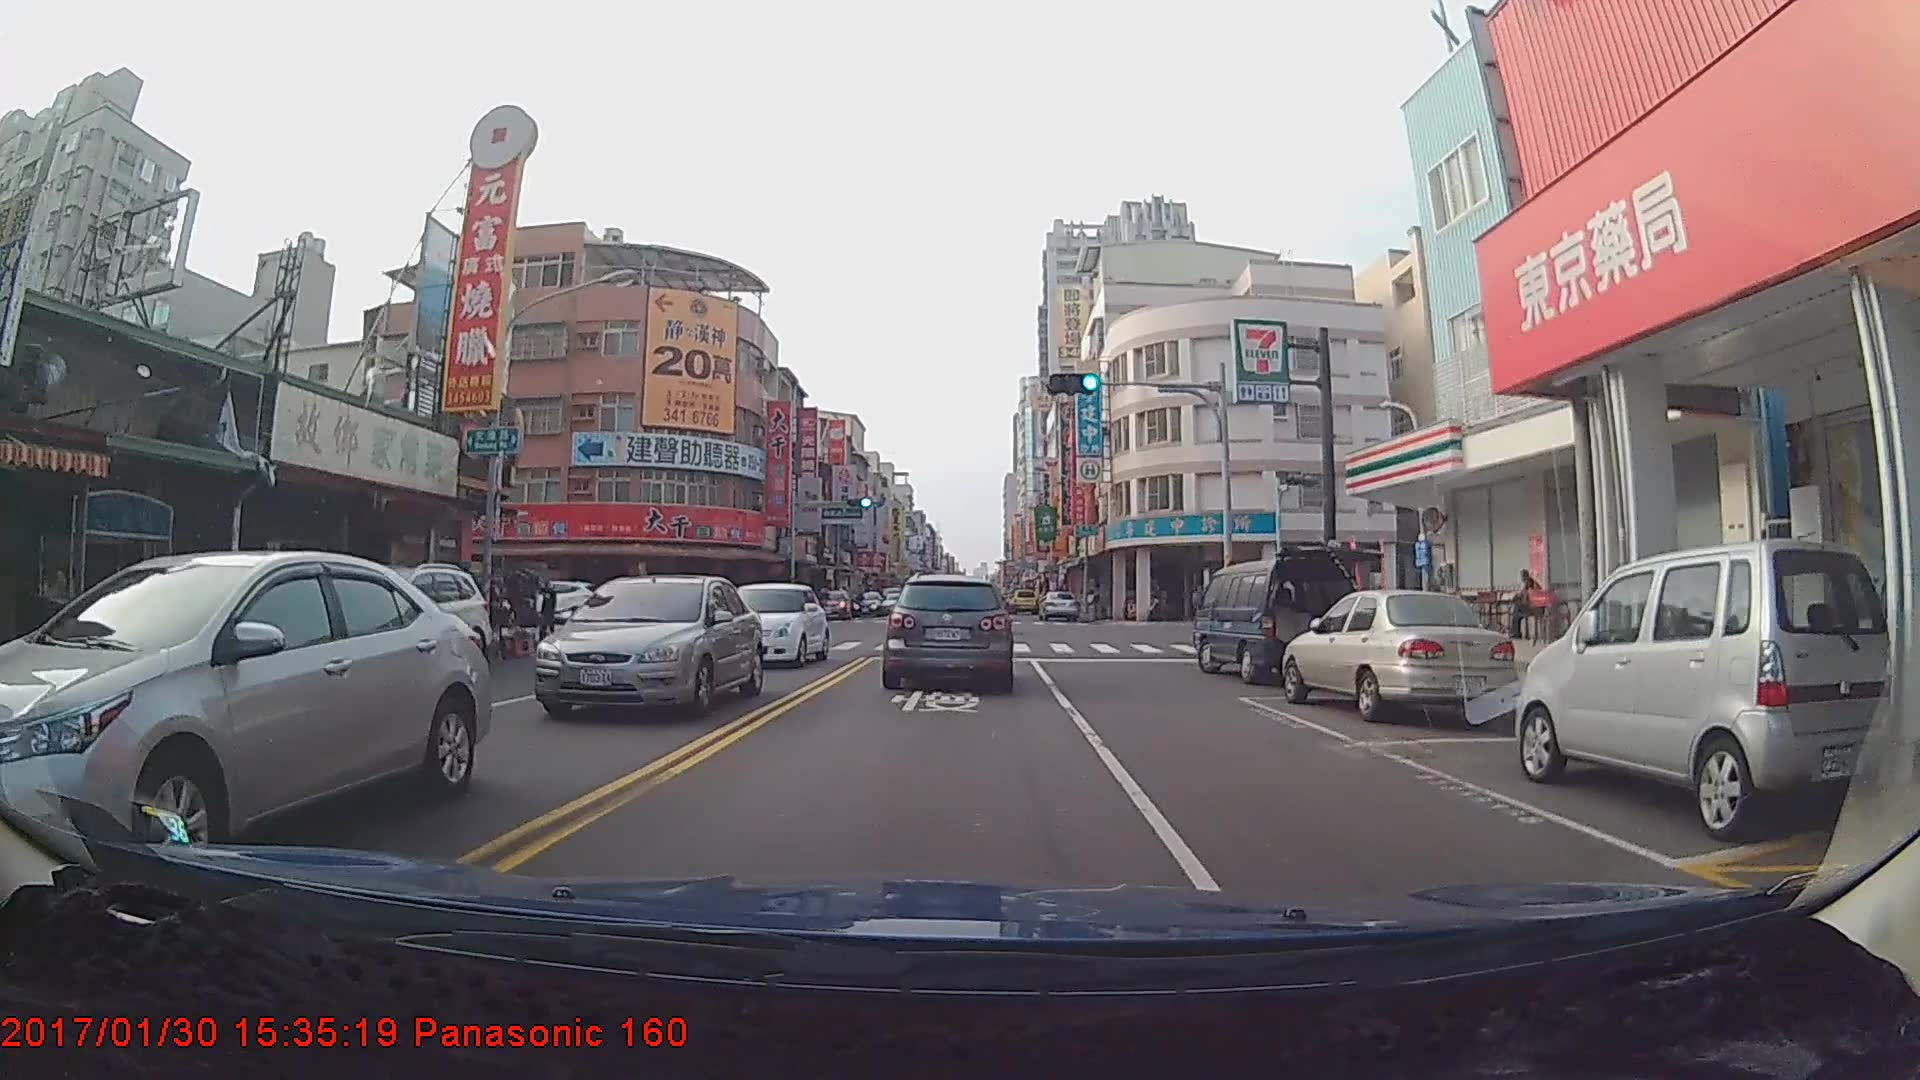vehicle: (0, 547, 491, 885), (1511, 541, 1895, 833), (537, 571, 760, 719), (1284, 585, 1513, 723), (1193, 562, 1357, 679), (884, 570, 1014, 692), (700, 582, 828, 670), (1036, 588, 1080, 622), (811, 585, 848, 620), (849, 592, 884, 616), (1007, 588, 1036, 612)
